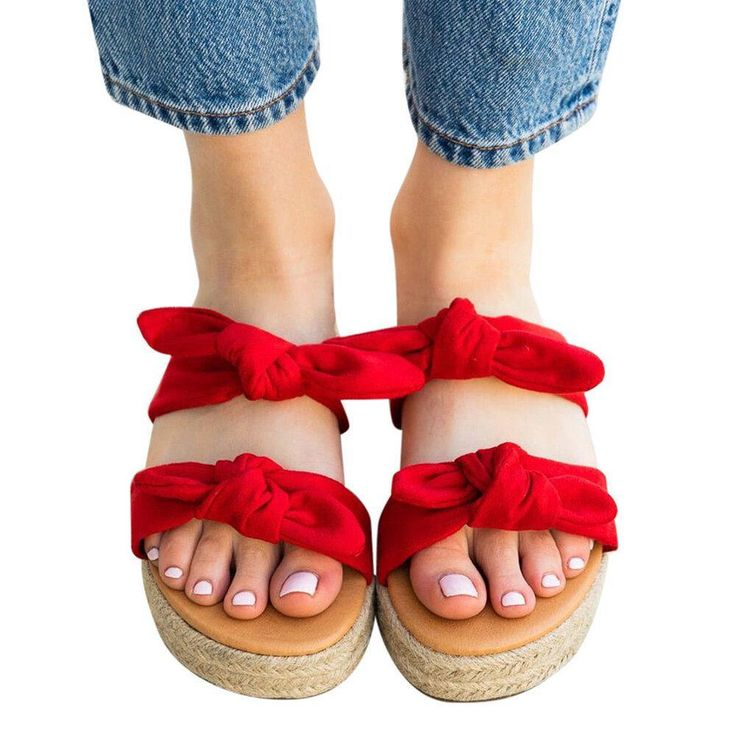gamuza: (131, 296, 618, 582)
